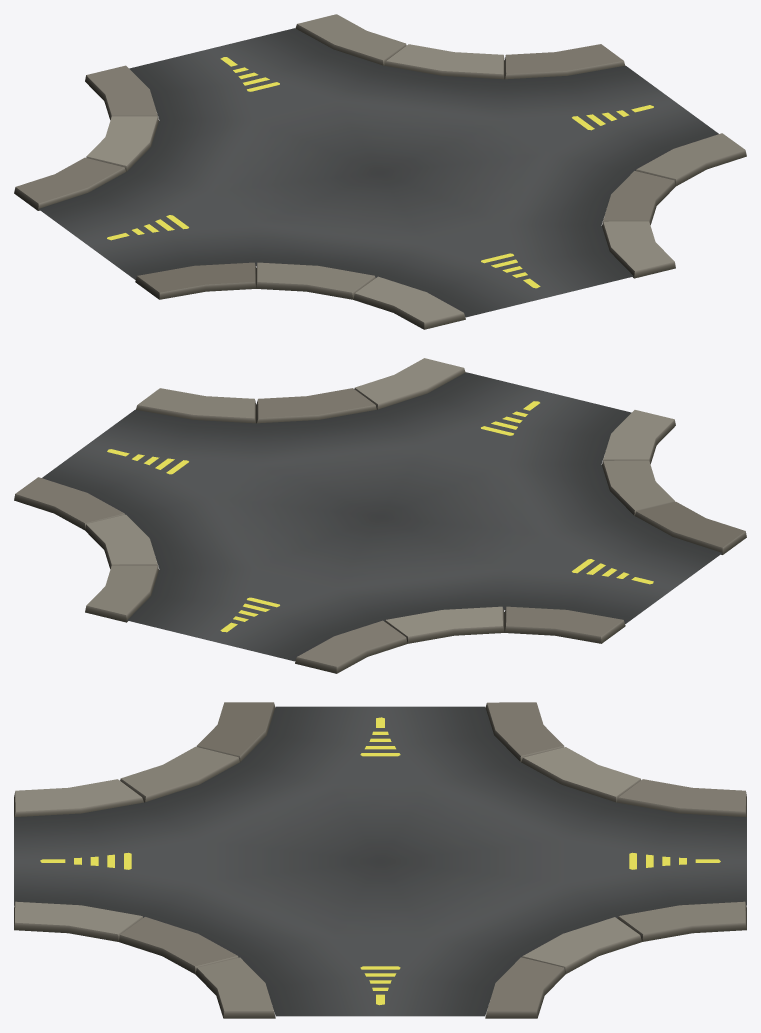
Rendered from Simple Round about.fbx.
3 views of the same model, one above another, from view 1: azimuth 30°, elevation 25°; view 2: azimuth 150°, elevation 25°; view 3: azimuth 270°, elevation 25° (orthographic). The views are drawn at different scales.
Parts seen in each view (by area): view 1: Roundabout_2D; view 2: Roundabout_2D; view 3: Roundabout_2D.
Boxes of the visible parts, x1,y1,x2,y2 form: Roundabout_2D: (14, 14, 746, 329); Roundabout_2D: (14, 358, 746, 673); Roundabout_2D: (14, 702, 746, 1018).
Size of the model in its own units: 2800 by 30 by 2800.
1 material, 1 textured.
